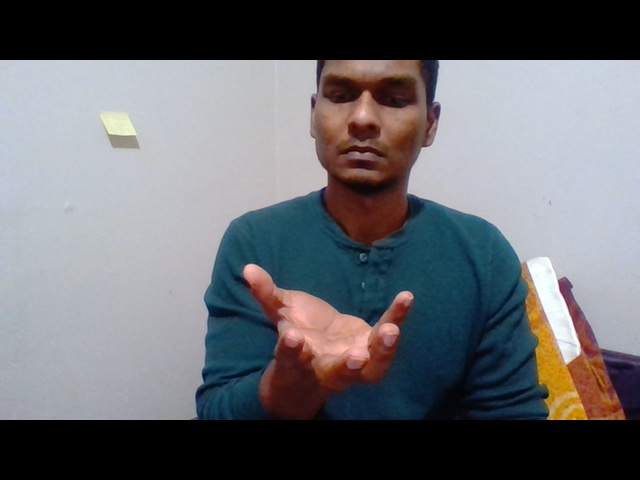ItisWarm: (241, 261, 417, 395)
